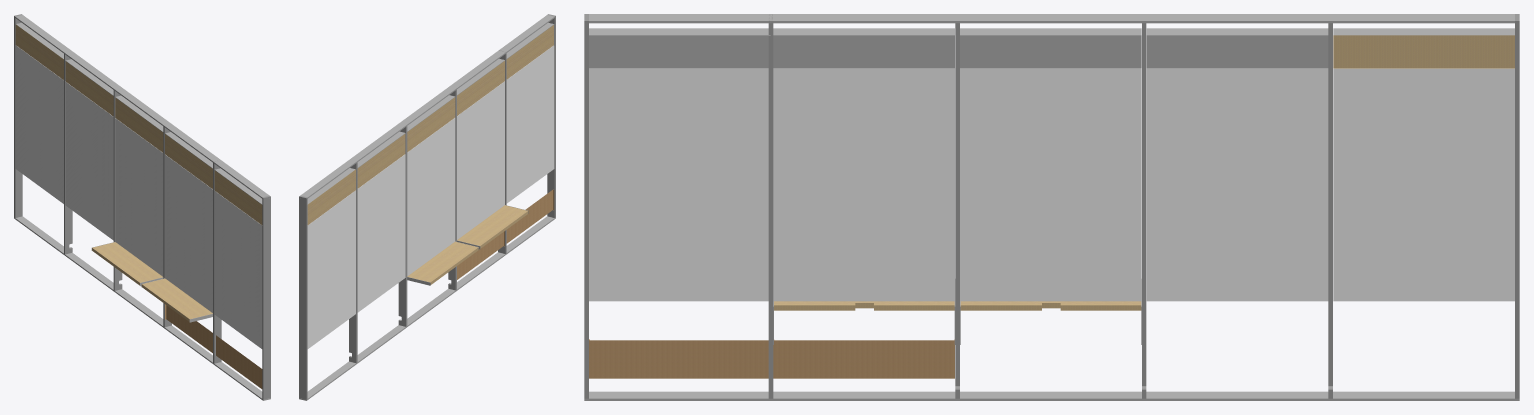
File: SketchupBlackboard.FBX
3 renders of one model, left to right at view 1: azimuth 30°, elevation 25°; view 2: azimuth 150°, elevation 25°; view 3: azimuth 270°, elevation 25°, orthographic. The views are drawn at different scales.
Visible parts, largest first — view 1: SketchupBlackboard; view 2: SketchupBlackboard; view 3: SketchupBlackboard.
Part boxes in pixels (left/top/right/bottom): SketchupBlackboard: left=14, top=14, right=270, bottom=400; SketchupBlackboard: left=299, top=14, right=555, bottom=400; SketchupBlackboard: left=584, top=14, right=1519, bottom=400.
Size of the model in its own units: 6.57 by 40.95 by 91.3.
6 materials, 2 textured.
